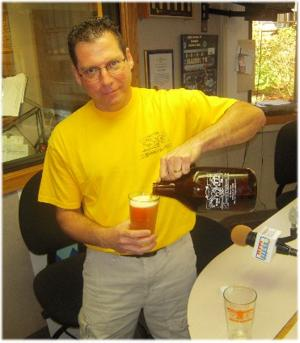person: (38, 17, 268, 338)
